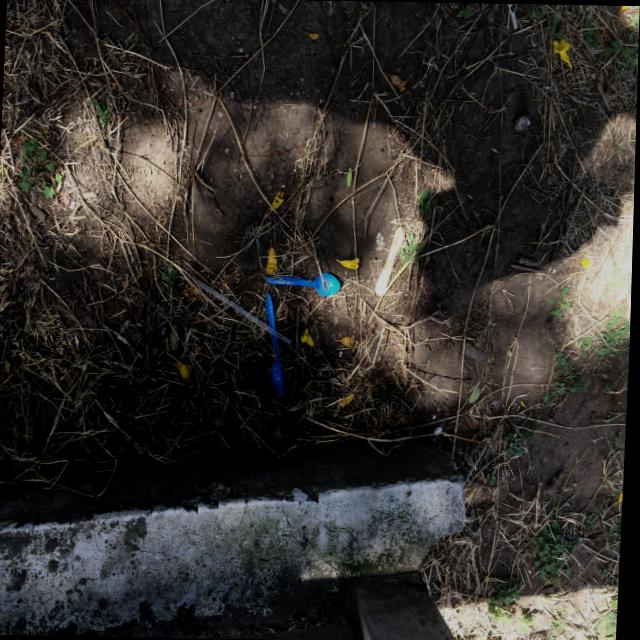Plastic: (258, 290, 292, 398), (261, 272, 344, 292)
Trash -everything else-: (372, 224, 408, 302)
